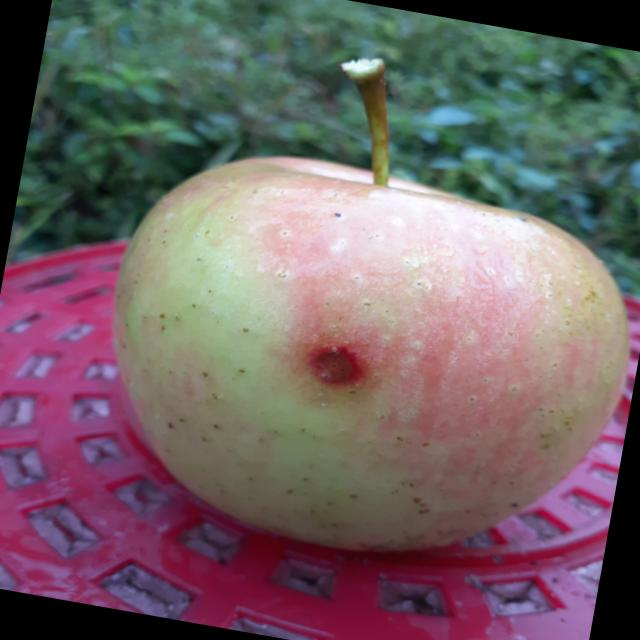rotten: (72, 111, 640, 610)
